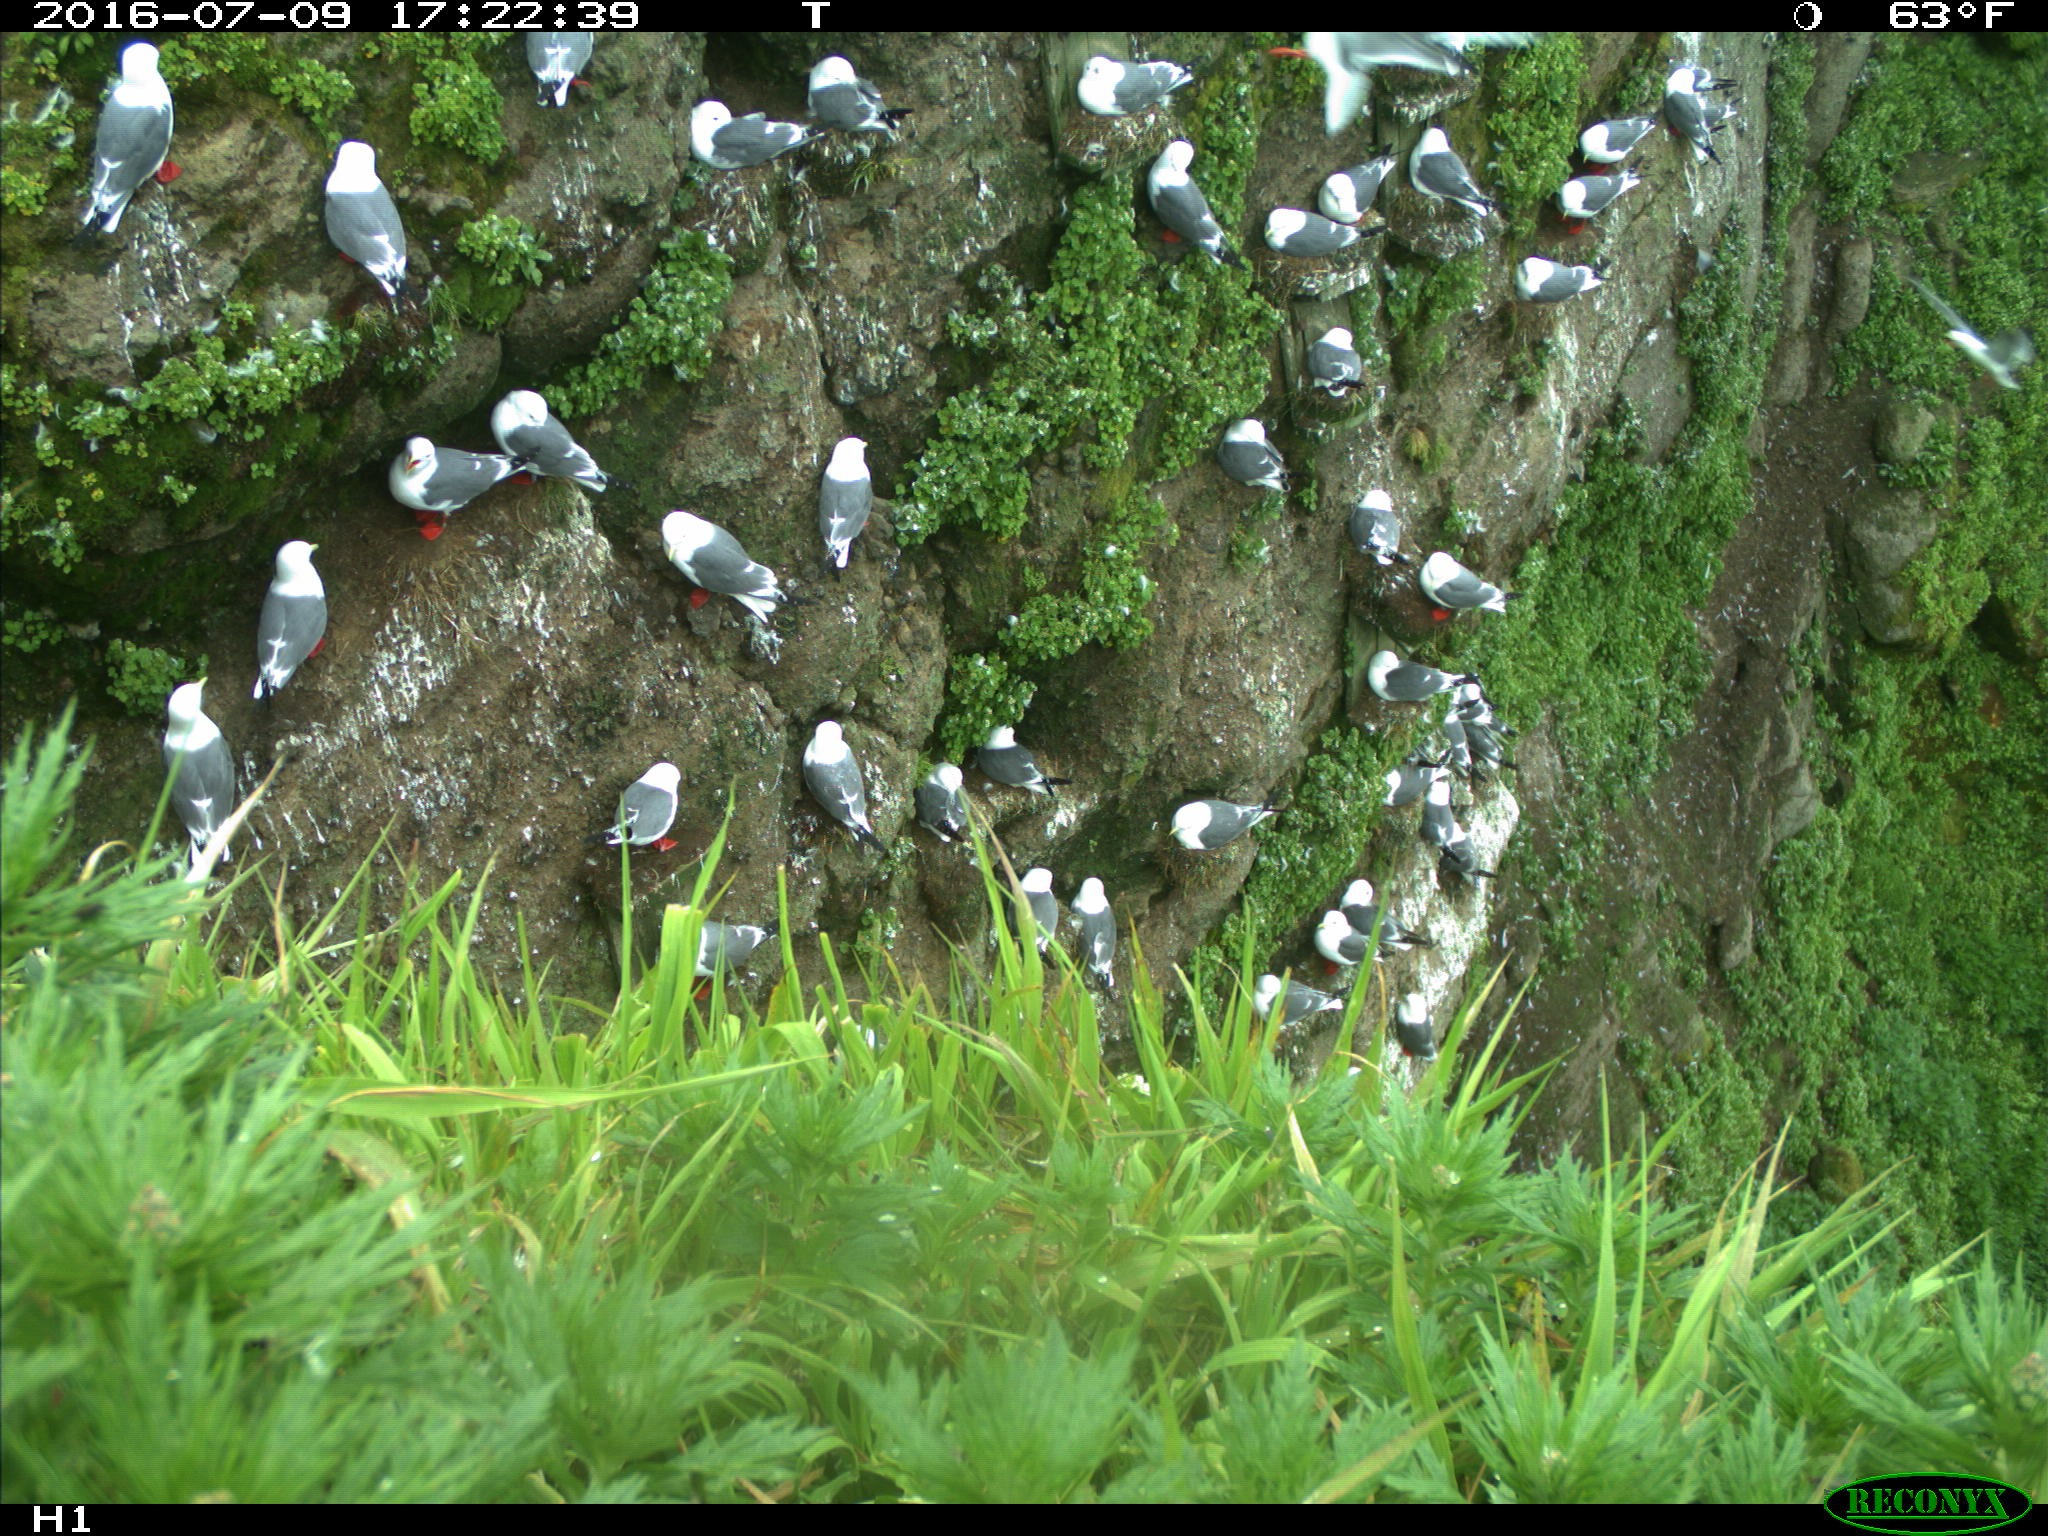Kittiwake: (110, 662, 302, 879), (53, 45, 214, 242), (303, 102, 443, 287), (232, 518, 360, 721), (653, 466, 764, 665), (482, 357, 650, 481), (361, 424, 535, 537), (1040, 39, 1242, 132), (1143, 758, 1284, 886), (601, 737, 710, 895), (1118, 145, 1258, 260), (782, 712, 910, 829), (672, 90, 829, 179), (803, 440, 903, 576), (1414, 505, 1505, 650), (1551, 106, 1675, 208), (1205, 378, 1293, 515), (1069, 834, 1164, 962), (1229, 950, 1350, 1050), (808, 44, 911, 160), (1405, 119, 1501, 240), (1542, 157, 1638, 278), (1301, 137, 1435, 224), (1279, 316, 1388, 419), (971, 703, 1072, 813), (1655, 61, 1742, 182), (985, 866, 1089, 966), (516, 23, 622, 115), (1334, 470, 1421, 578), (1376, 983, 1471, 1079), (1384, 768, 1505, 837), (1288, 892, 1388, 971), (1255, 200, 1376, 265), (1334, 876, 1426, 958), (911, 747, 987, 845), (1505, 258, 1613, 316), (1359, 637, 1450, 703)
